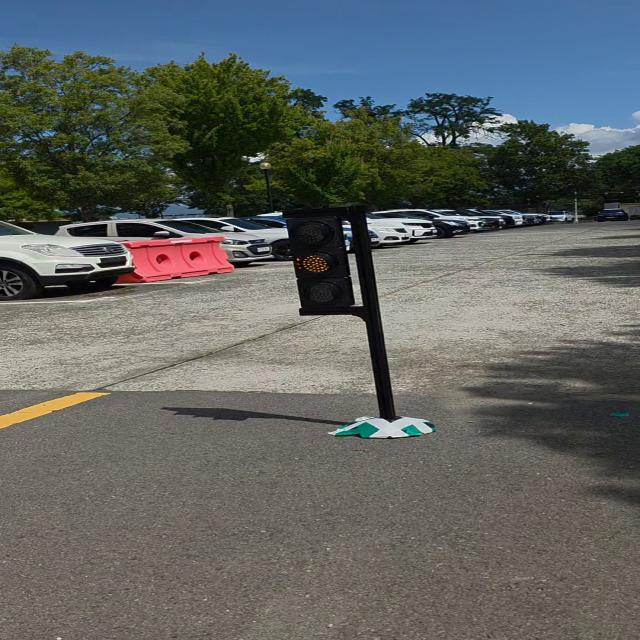yellow: (286, 210, 358, 315)
